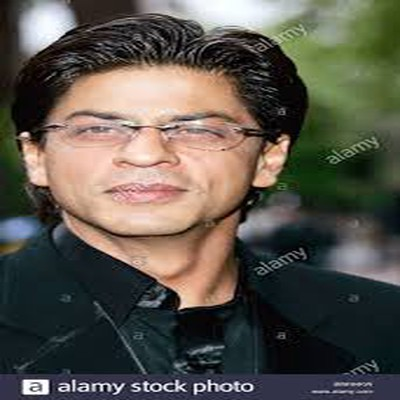eywear: (52, 97, 270, 189)
